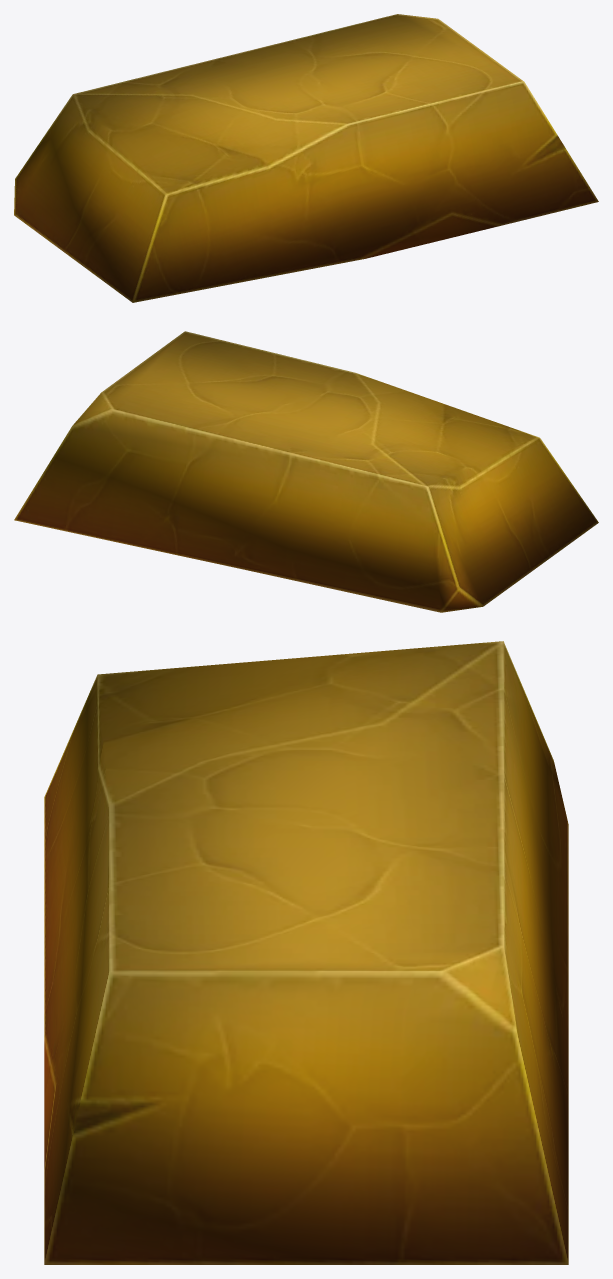
Rendered from Gold_Pile_1.glb.
The picture shows the model from 3 angles, top to bottom: view 1: azimuth 30°, elevation 25°; view 2: azimuth 150°, elevation 25°; view 3: azimuth 270°, elevation 25°; orthographic projection. The views are drawn at different scales.
Parts seen in each view (by area): view 1: Gold-01; view 2: Gold-01; view 3: Gold-01.
Part boxes in pixels (box(x1,y1,x2,y2)): Gold-01: box(14, 14, 598, 302); Gold-01: box(14, 331, 598, 612); Gold-01: box(44, 641, 568, 1264).
Size of the model in its own units: 0.33 by 0.0825 by 0.165.
1 material, 1 textured.
